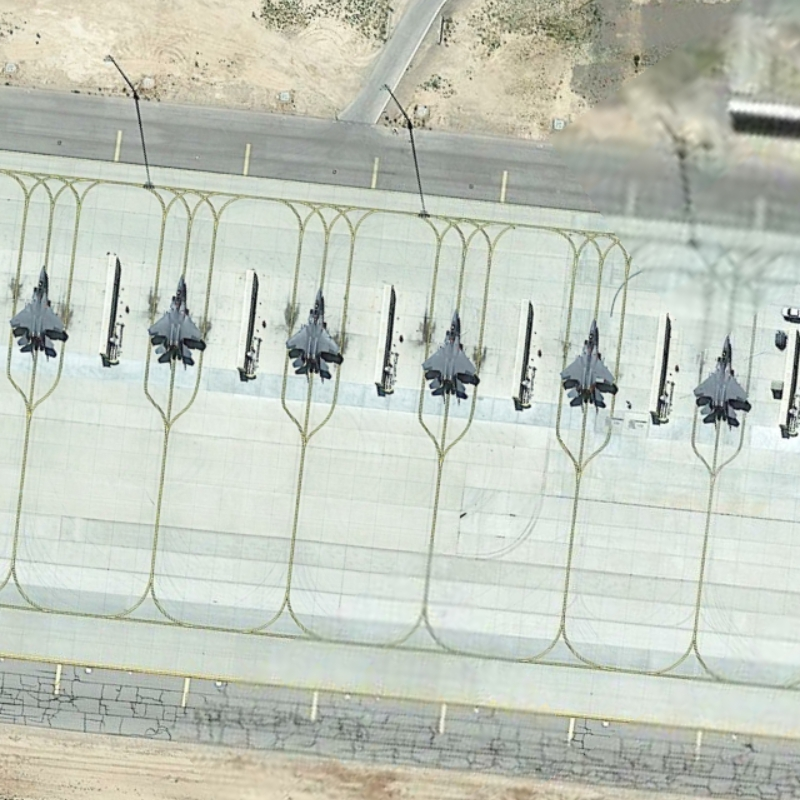A13: (138, 265, 219, 371), (5, 257, 78, 361), (550, 312, 623, 415), (690, 330, 758, 432), (281, 281, 349, 381), (416, 305, 486, 402)
